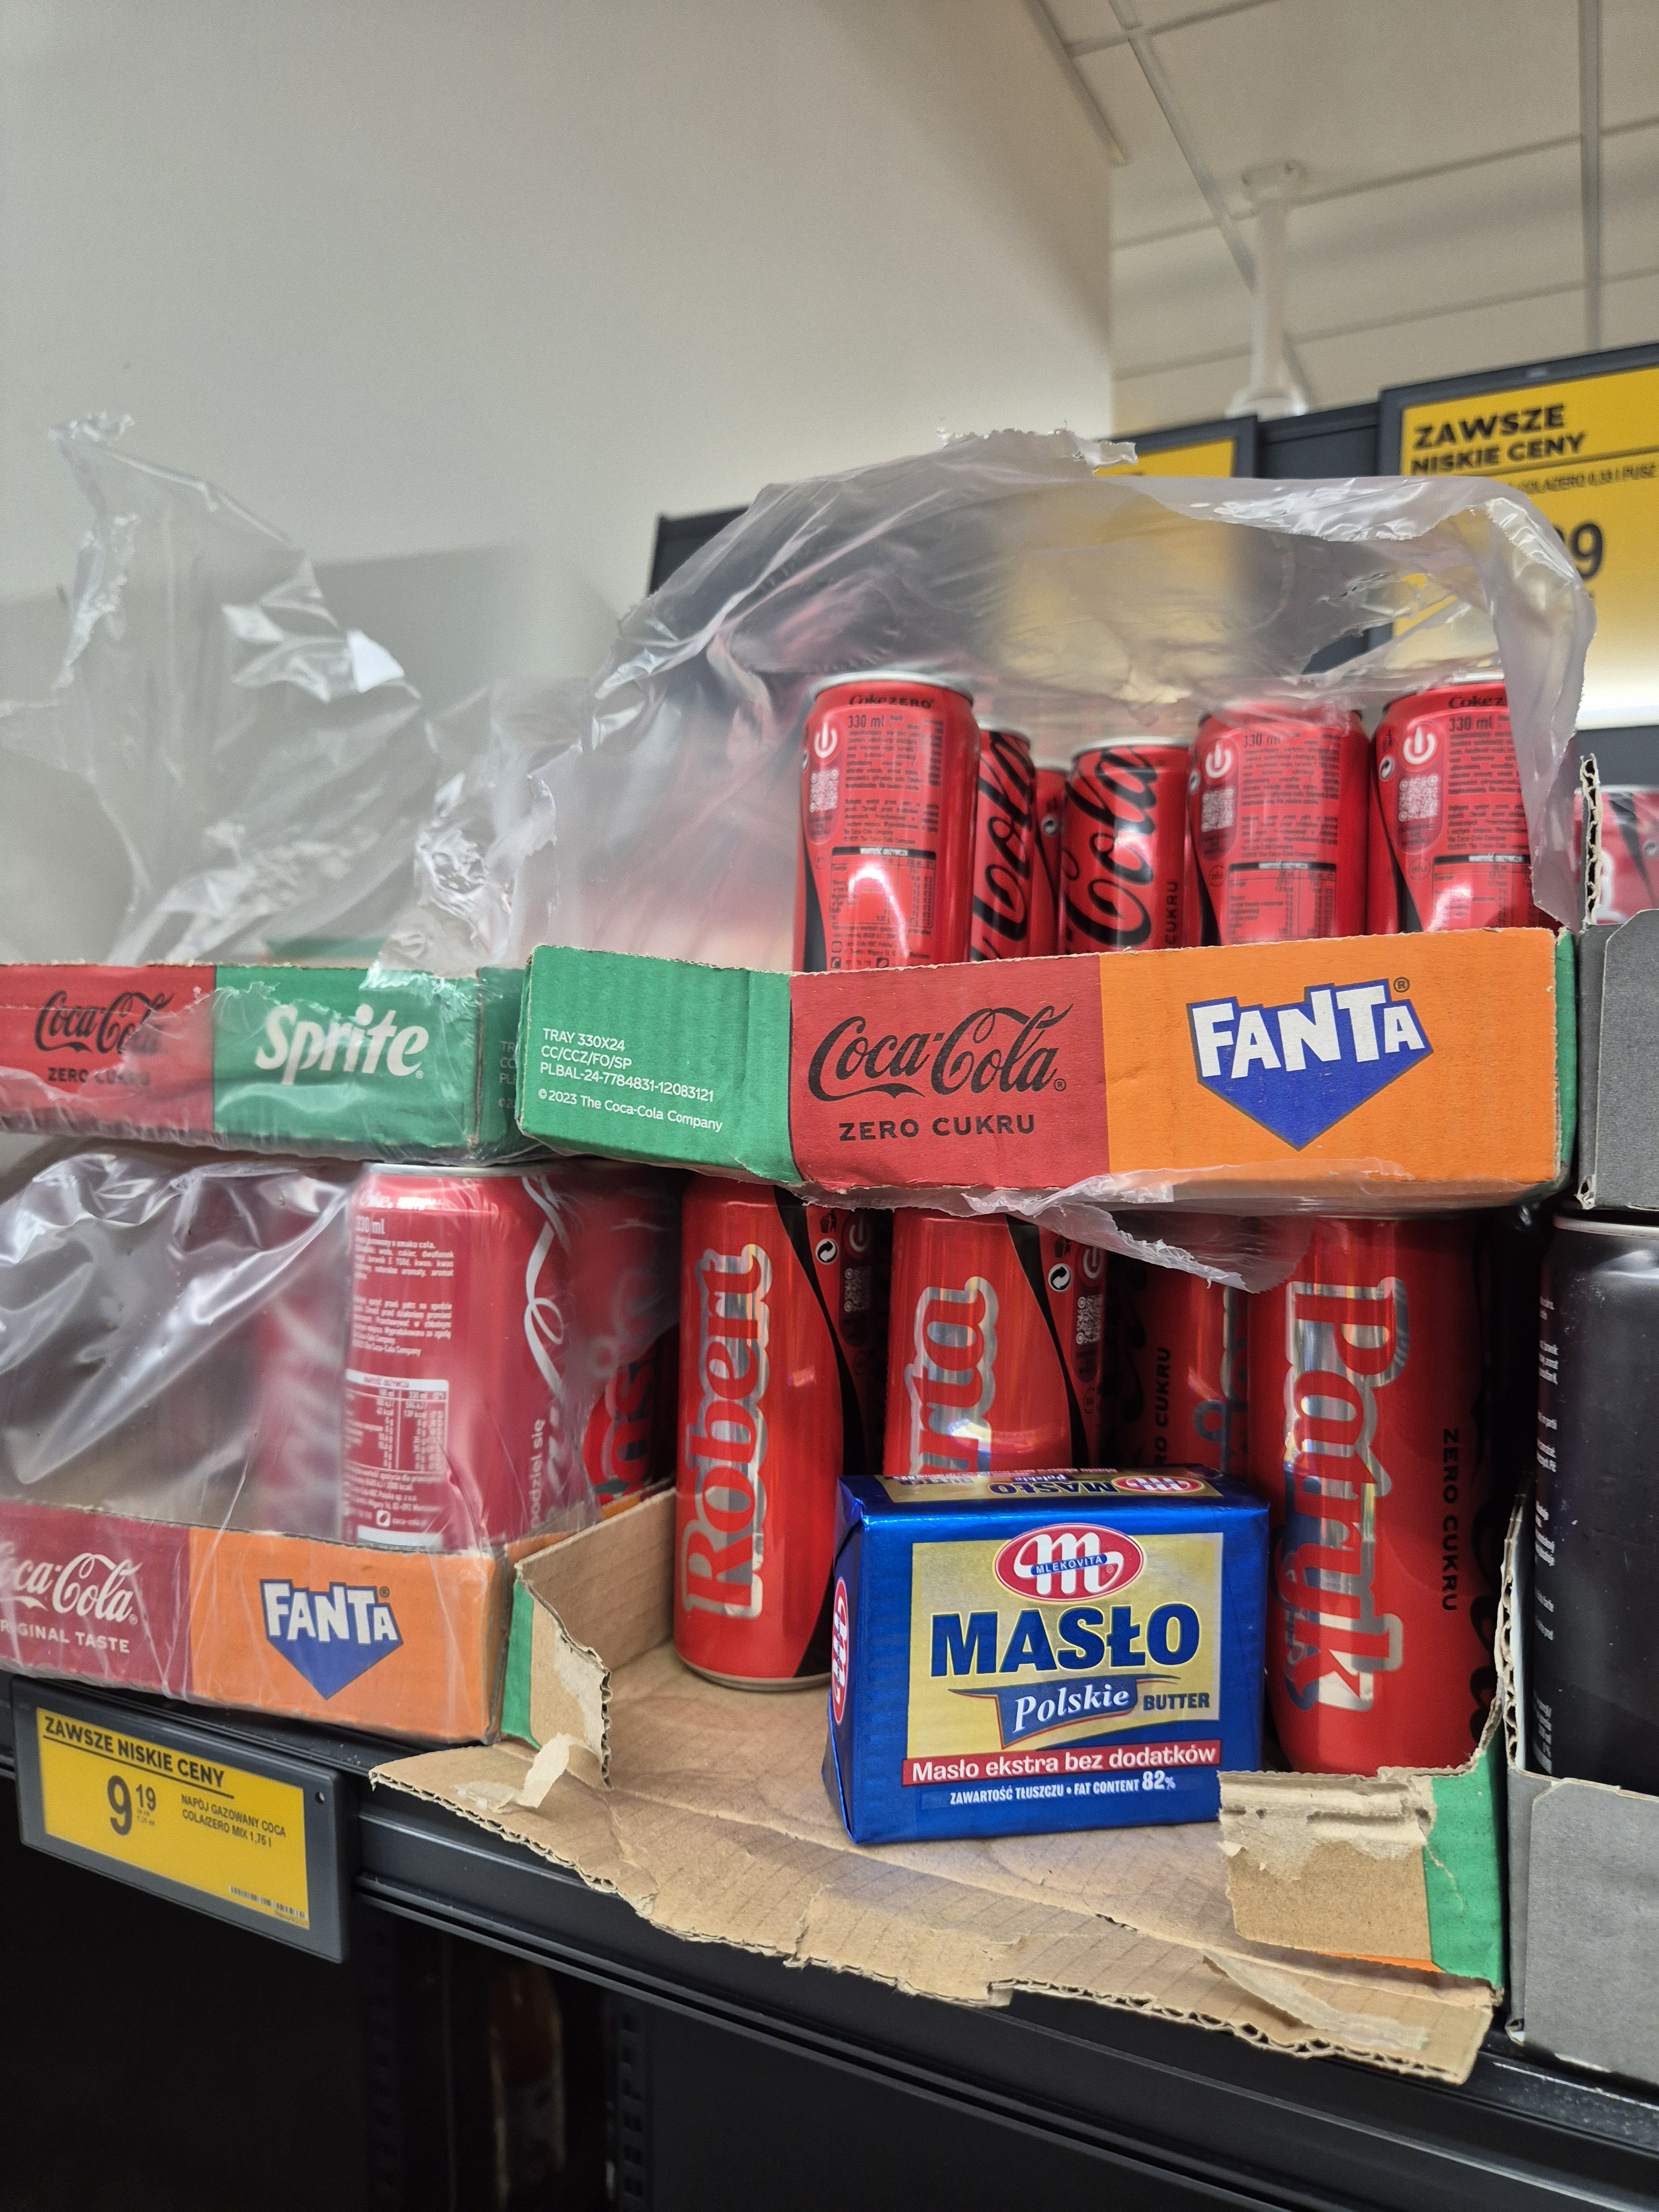Butter: (821, 1447, 1314, 1857)
